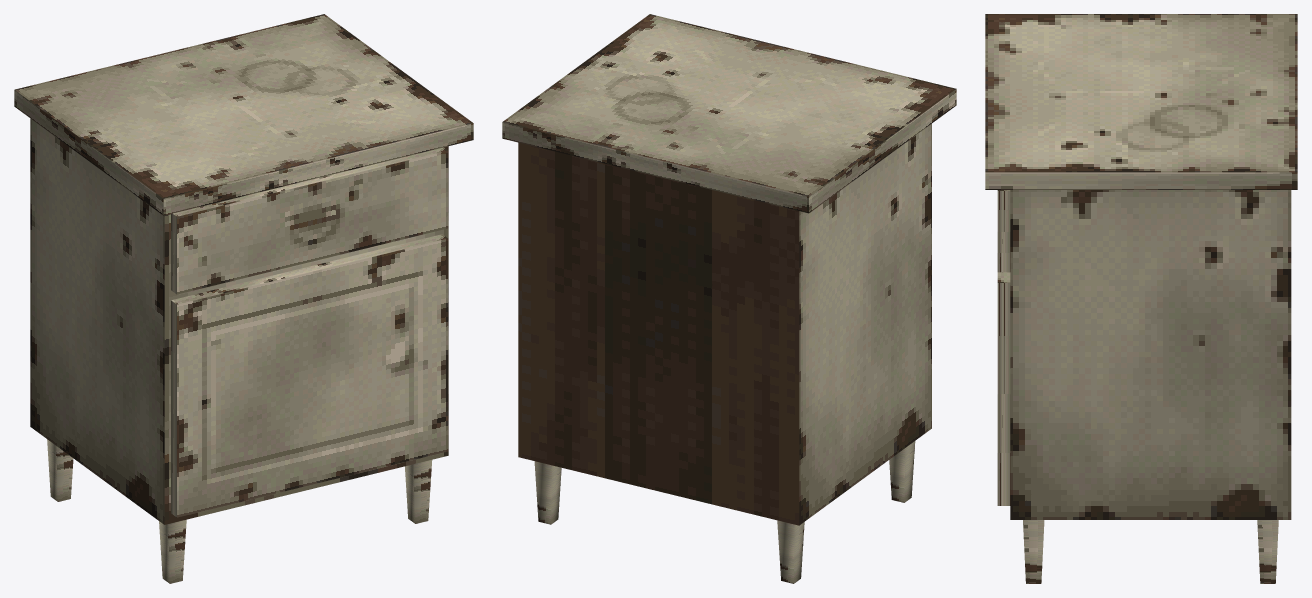
File: nightstand.glb
3 views of the same model, side by side, from view 1: azimuth 30°, elevation 25°; view 2: azimuth 150°, elevation 25°; view 3: azimuth 270°, elevation 25° (orthographic). The views are drawn at different scales.
Parts seen in each view (by area): view 1: nightstand; view 2: nightstand; view 3: nightstand.
Boxes of the visible parts, box(x1,y1,x2,y2) form: nightstand: box(14, 14, 473, 583); nightstand: box(502, 14, 956, 583); nightstand: box(985, 14, 1297, 583).
Bounding box in the file's own units: 0.48 × 0.6 × 0.4.
1 material, 1 textured.
